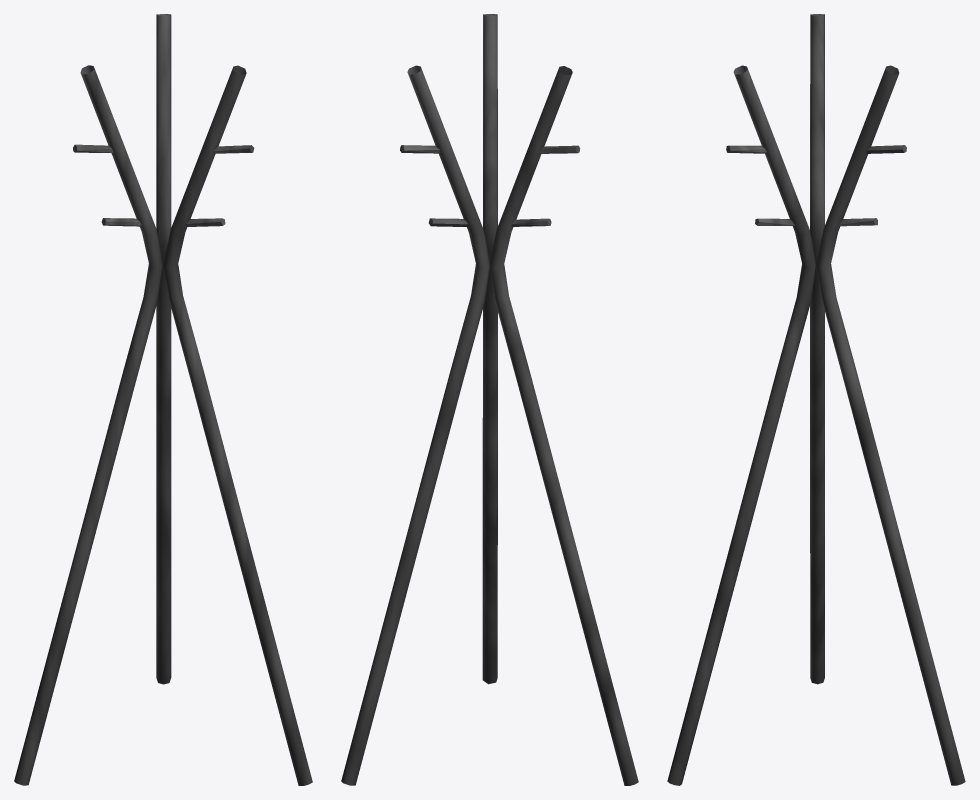
Rendered from coat_hanger(textured).fbx.
3 views of the same model, side by side, from view 1: azimuth 30°, elevation 25°; view 2: azimuth 150°, elevation 25°; view 3: azimuth 270°, elevation 25° (orthographic).
Parts seen in each view (by area): view 1: BézierCurve.003; view 2: BézierCurve.003; view 3: BézierCurve.003.
Part boxes in pixels (bbox=[...]): BézierCurve.003: bbox=[14, 14, 312, 785]; BézierCurve.003: bbox=[341, 14, 638, 785]; BézierCurve.003: bbox=[667, 14, 965, 785].
Bounding box in the file's own units: 345 × 1024 × 395.
Materials: 1 (1 with a texture image).
